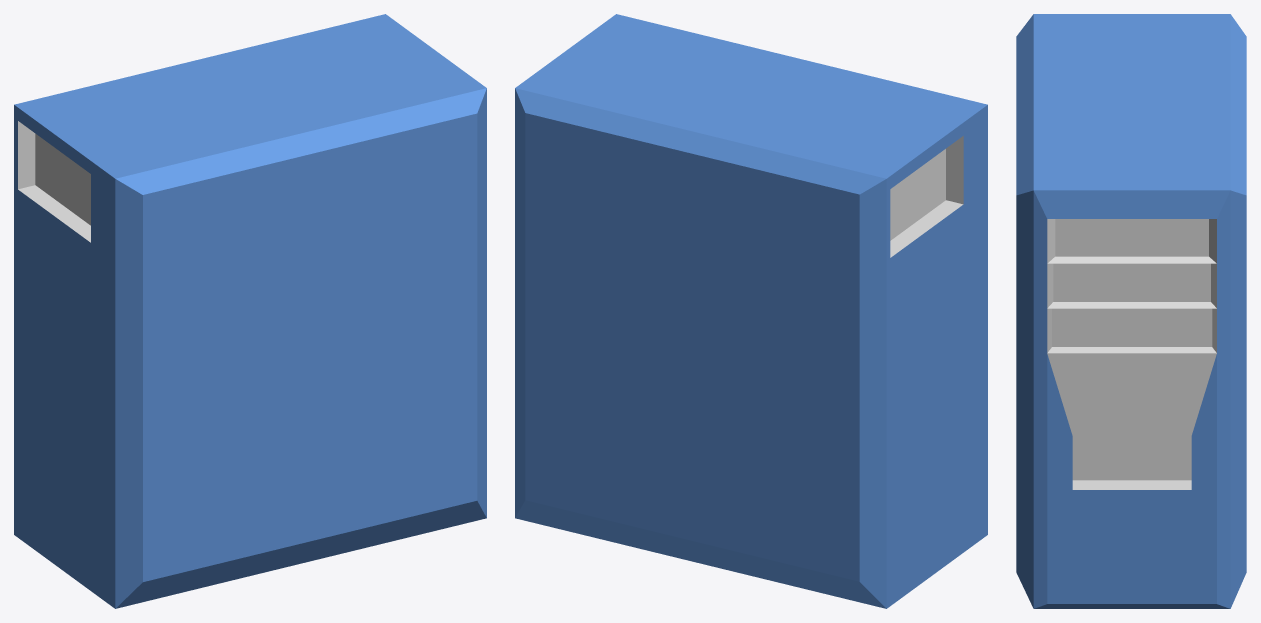
File: old_pc.fbx
3 renders of one model, left to right at view 1: azimuth 30°, elevation 25°; view 2: azimuth 150°, elevation 25°; view 3: azimuth 270°, elevation 25°, orthographic. The views are drawn at different scales.
Visible parts, largest first — view 1: proc; view 2: proc; view 3: proc.
Boxes of the visible parts, left/top/right/bottom form: proc: left=14, top=14, right=486, bottom=608; proc: left=515, top=14, right=987, bottom=608; proc: left=1016, top=14, right=1246, bottom=608.
Bounding box in the file's own units: 158 × 173 × 86.5.
